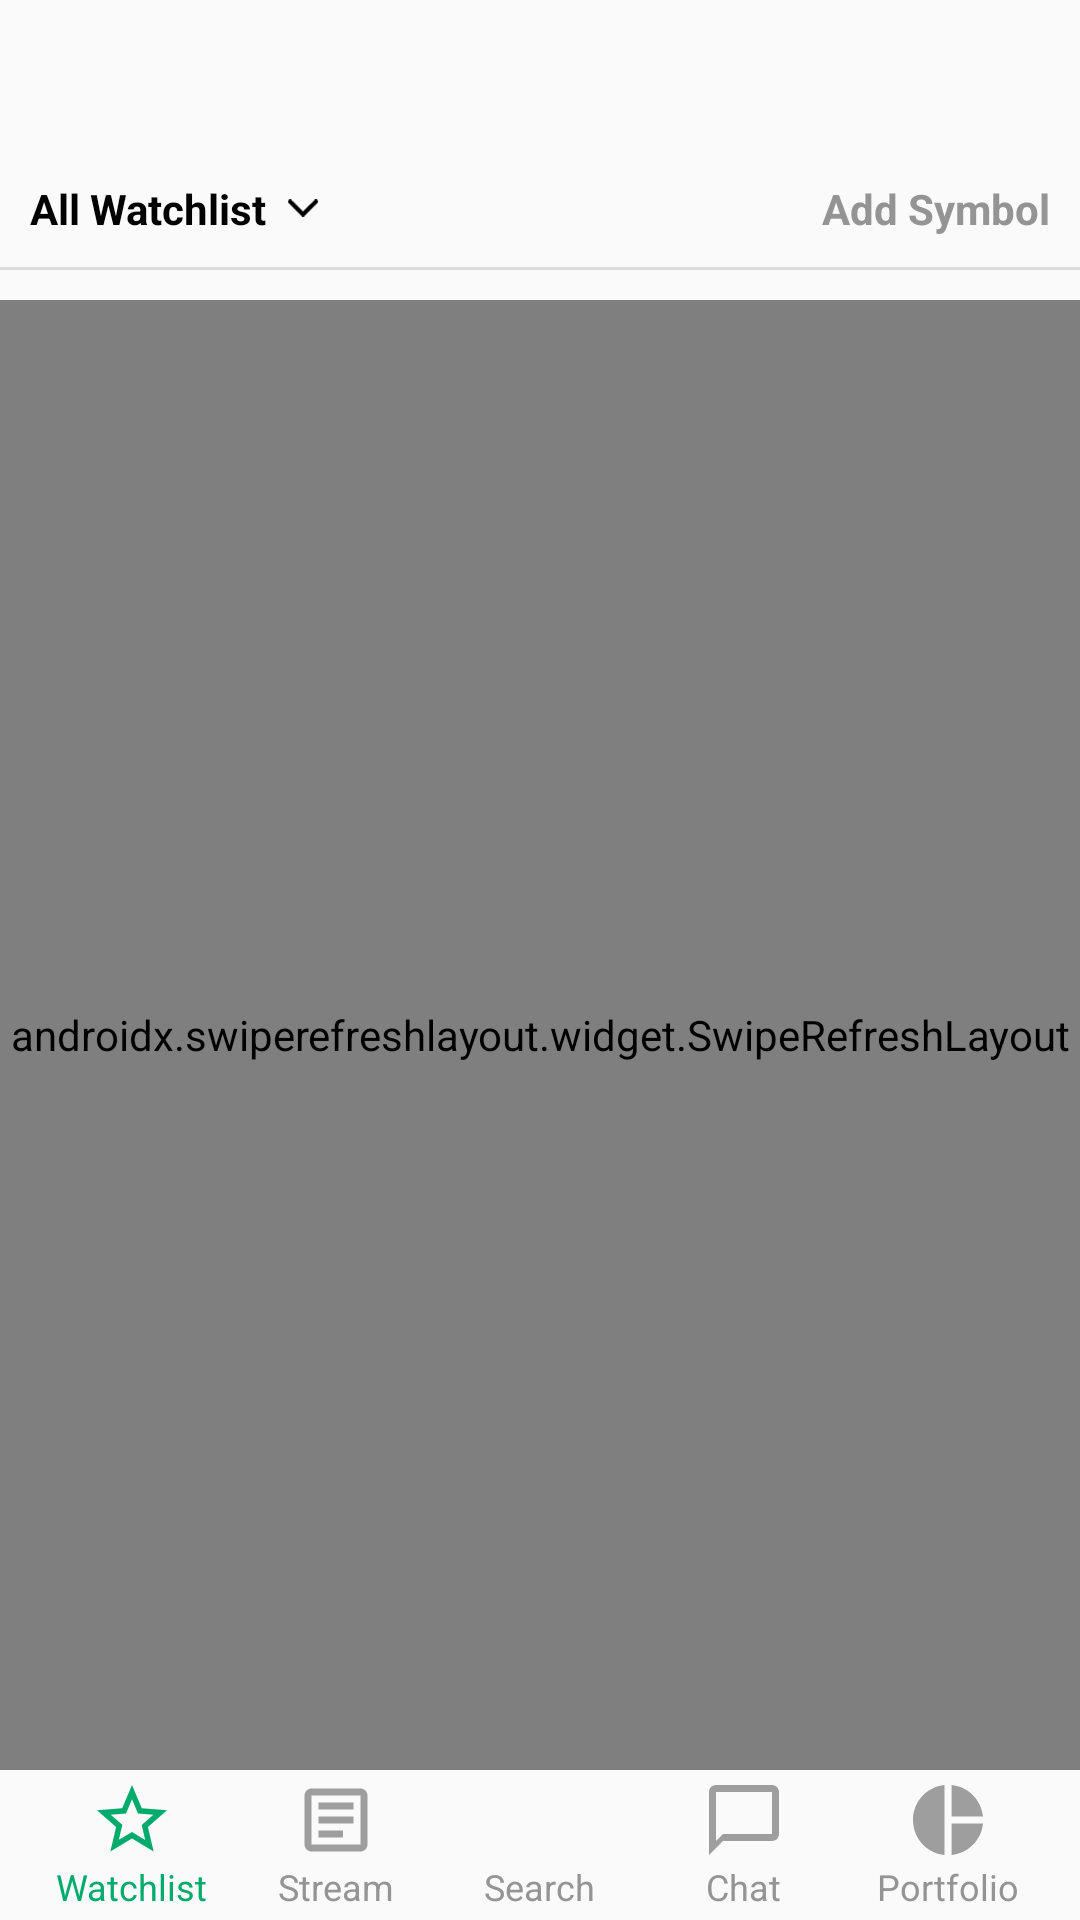

Where to tap for icons on this 1080*1920 app screen, as (x,y):
article: (336,1820)
chevron down: (303,208)
pie chart: (948,1820)
star border: (132,1818)
